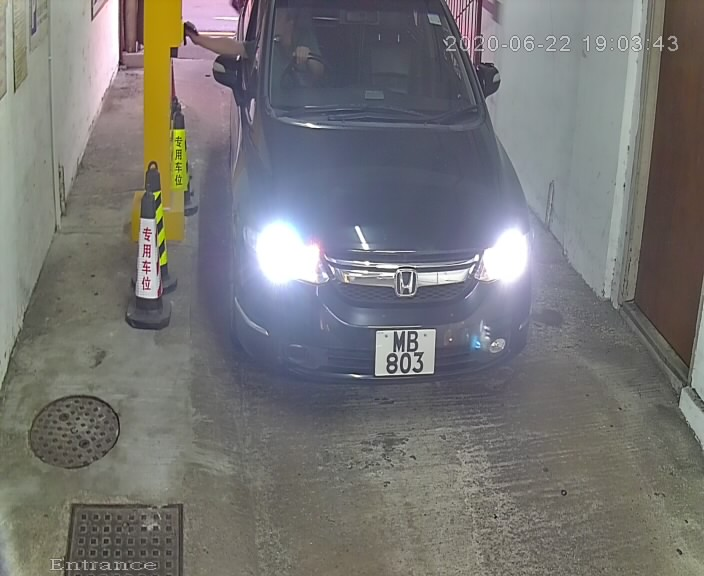privatecar: (199, 1, 568, 420)
